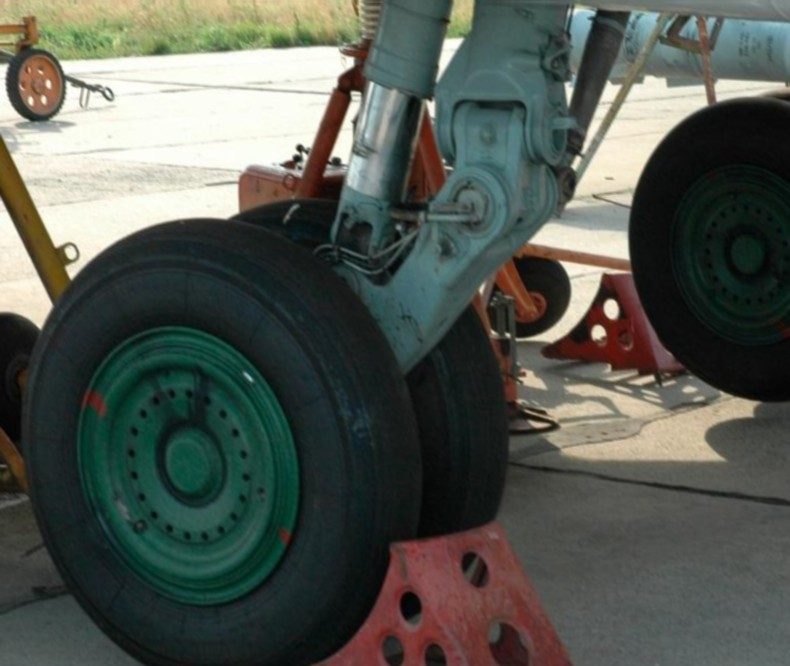chock: (300, 514, 600, 666)
wheel: (16, 209, 426, 666), (627, 84, 790, 405)
